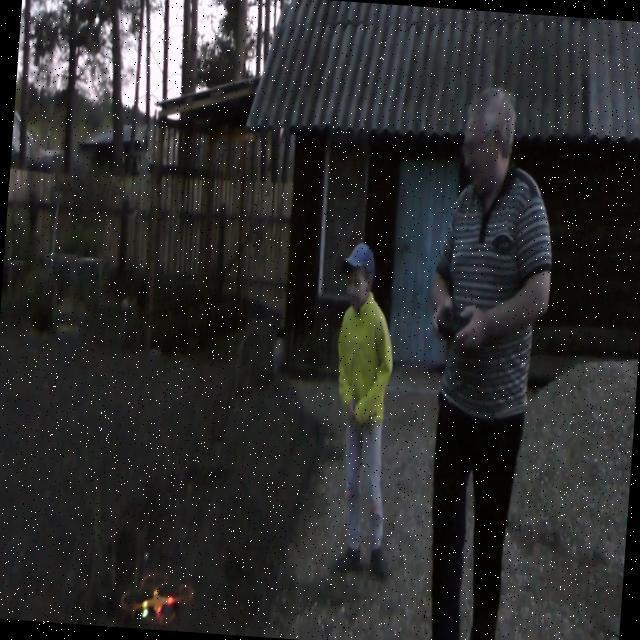Drons: (117, 568, 200, 632)
